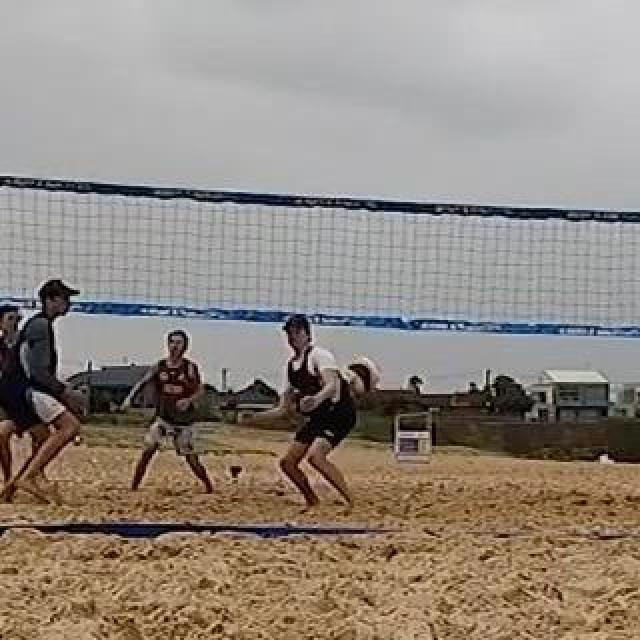volleyball: (344, 357, 380, 393)
